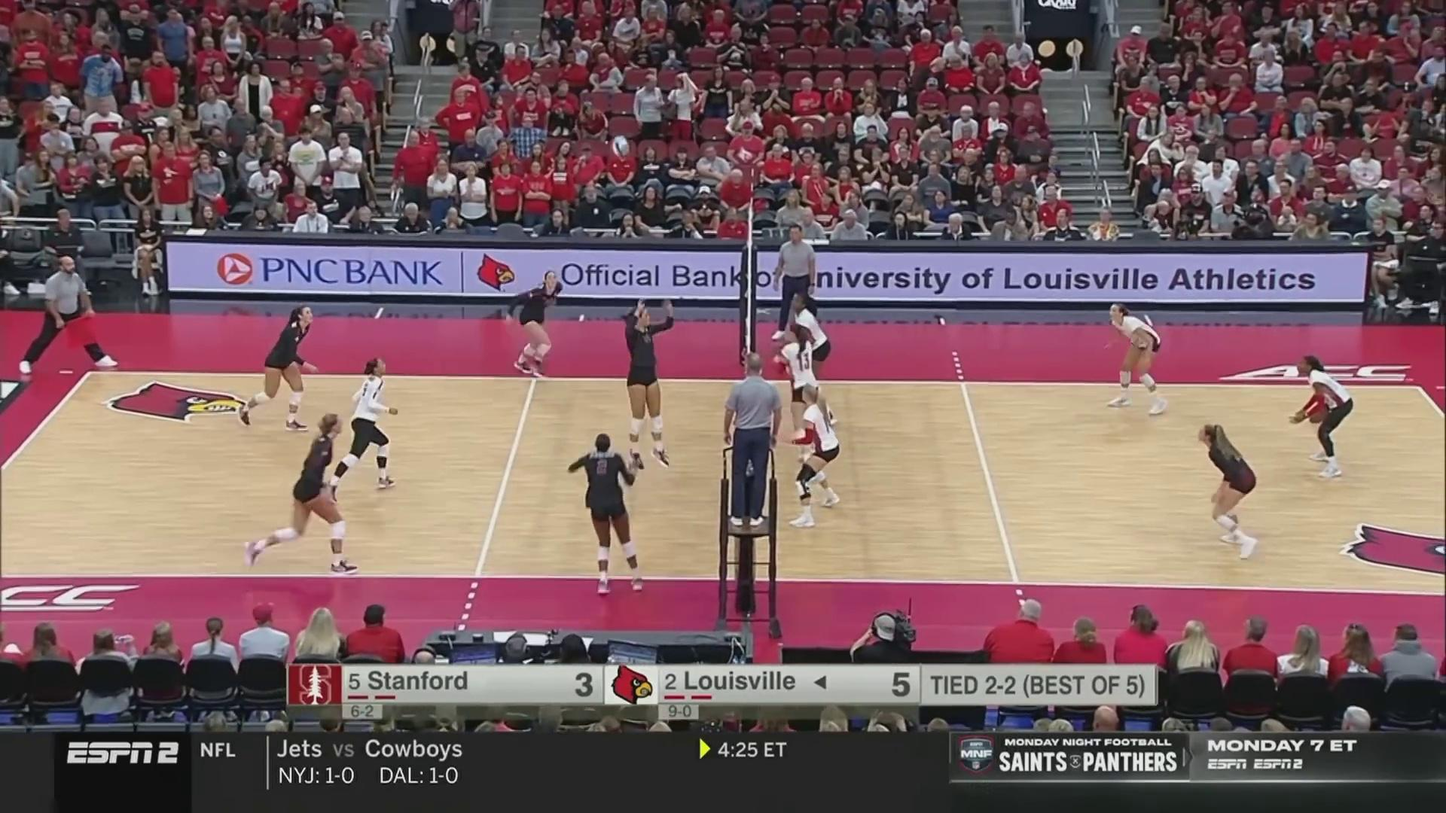player: (248, 416, 361, 575), (568, 433, 646, 590), (621, 300, 680, 468), (783, 387, 846, 524), (1193, 424, 1259, 553), (338, 361, 398, 495), (1289, 358, 1355, 479), (252, 307, 316, 428), (1102, 307, 1169, 414), (507, 271, 566, 376), (791, 290, 833, 436), (781, 326, 825, 462)
refree: (15, 251, 113, 377), (728, 361, 781, 529), (775, 223, 818, 341)
